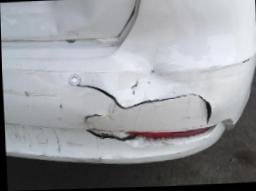Bumper: (48, 56, 254, 159)
